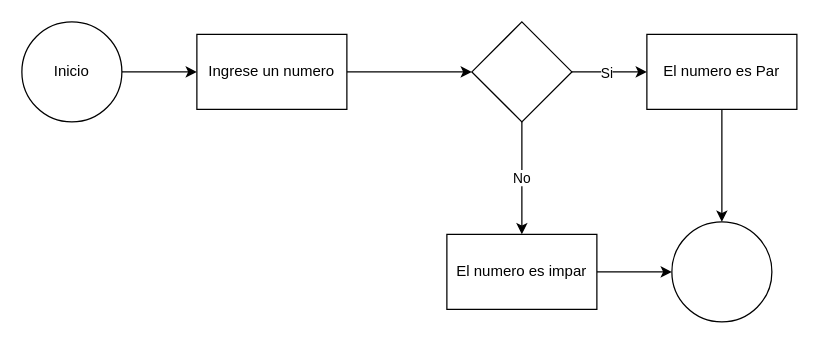
The diagram is 819 pixels wide and 344 high, and some of its shapes have lost their labels. Each missing label, with the box of its shape:
Fin: (671, 221, 772, 322)
Numero%2=0: (471, 21, 572, 122)
